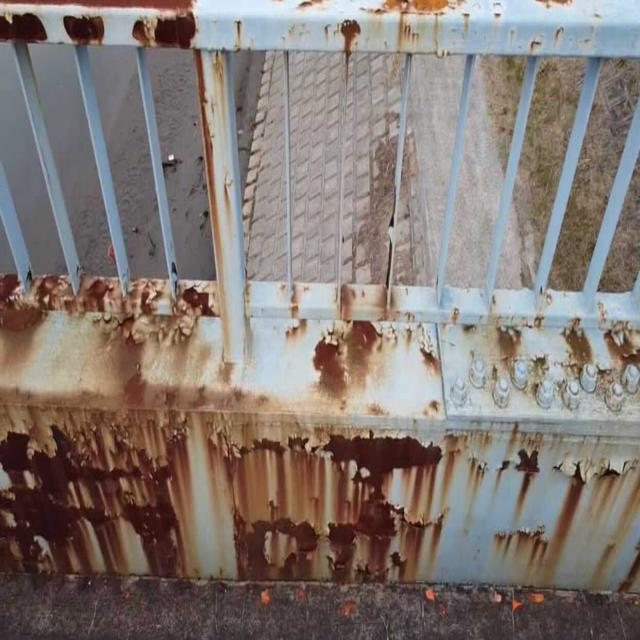corrosion: (15, 251, 640, 594), (10, 3, 446, 71)
